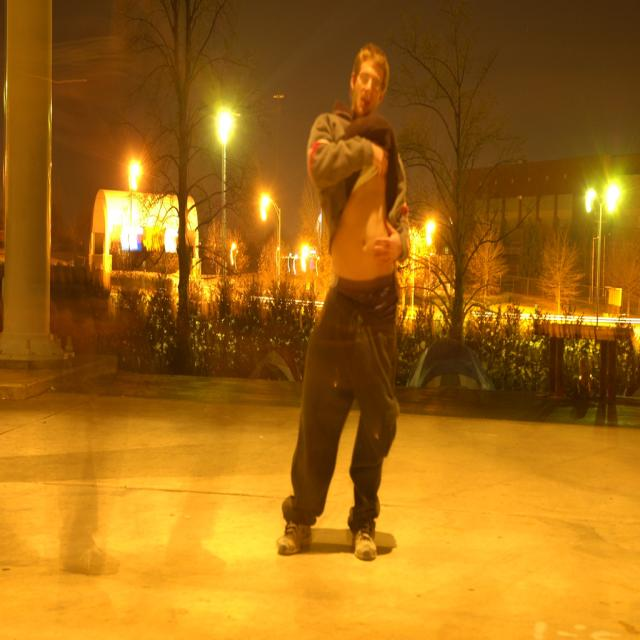no_fire: (397, 158, 640, 380), (90, 60, 282, 282)
